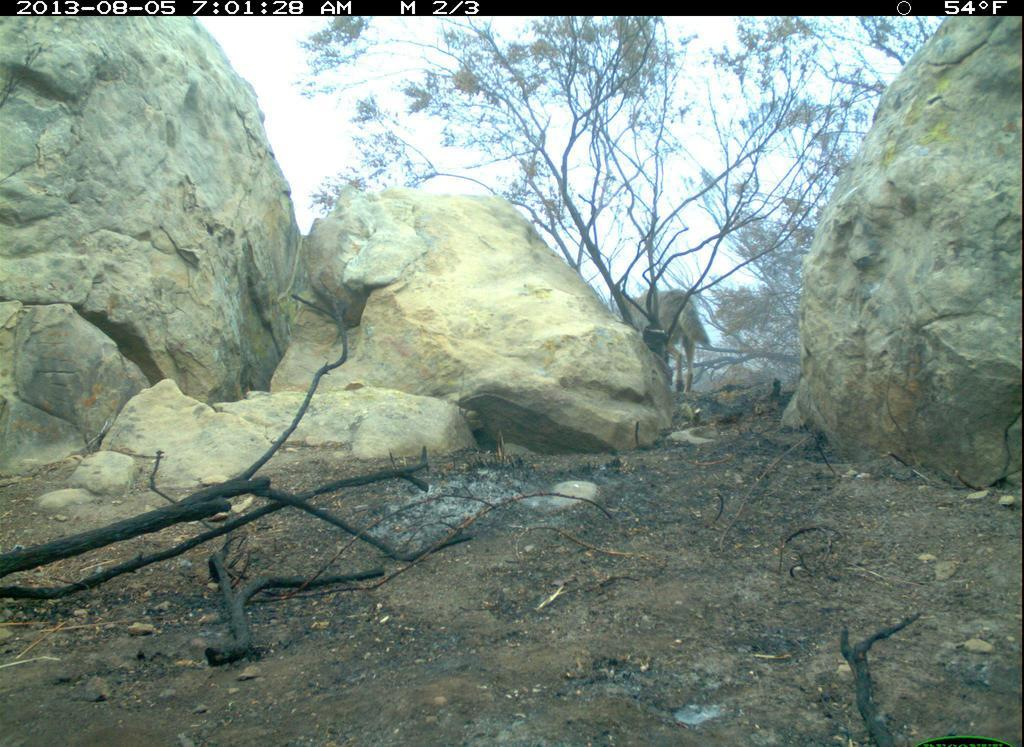coyote: (621, 286, 717, 398)
